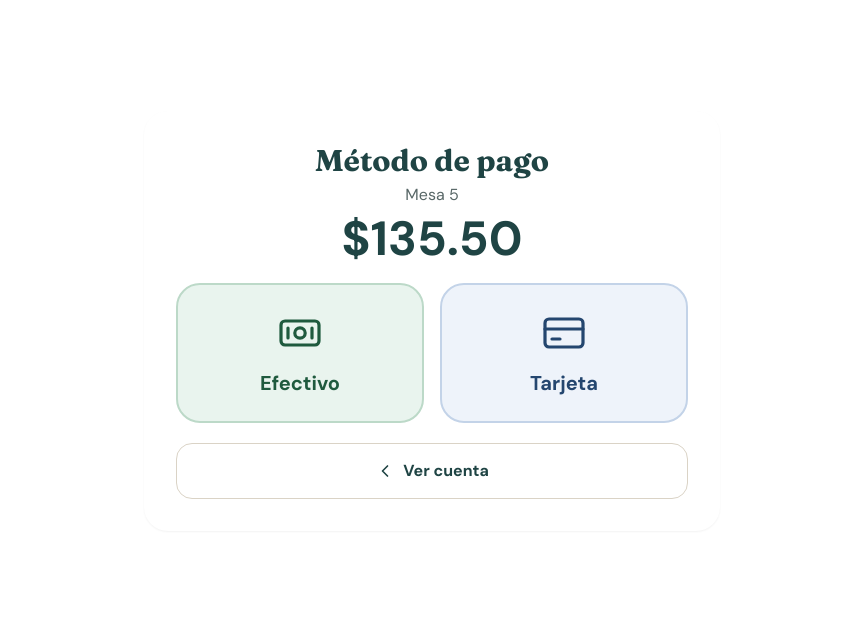
PasosPago › efectivo: atajos de billete suman
This screenshot has width=865, height=643.
What coordinates should you click on to do the following:
click the button "Efectivo"
I would click on:
 (300, 353)
Its box is [176,283,424,423].
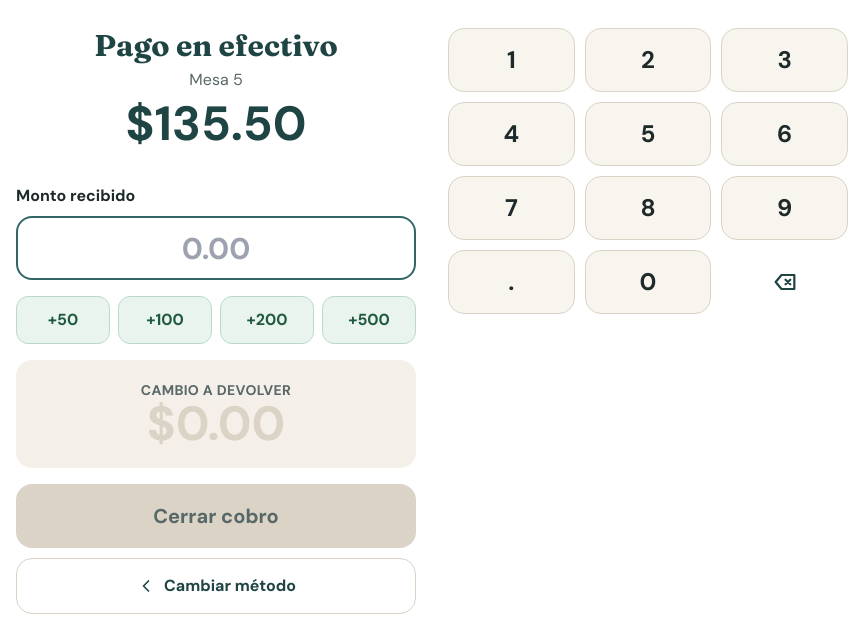
What coordinates should you click on to do the following:
click the button "+100"
I would click on:
 (165, 320)
Its box is [118,296,212,344].
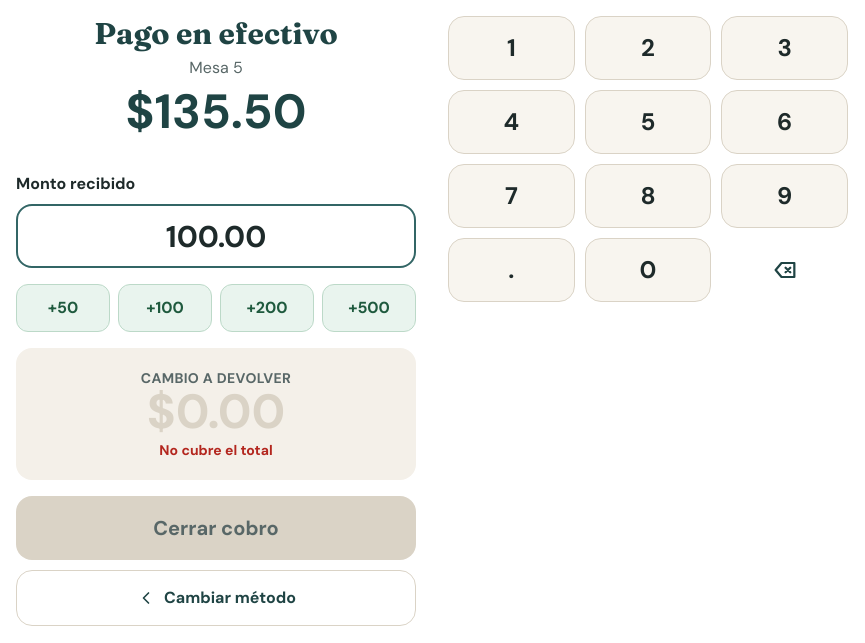
What coordinates should you click on to do the following:
click the button "+50"
I would click on:
 (63, 308)
Its box is [16,284,110,332].
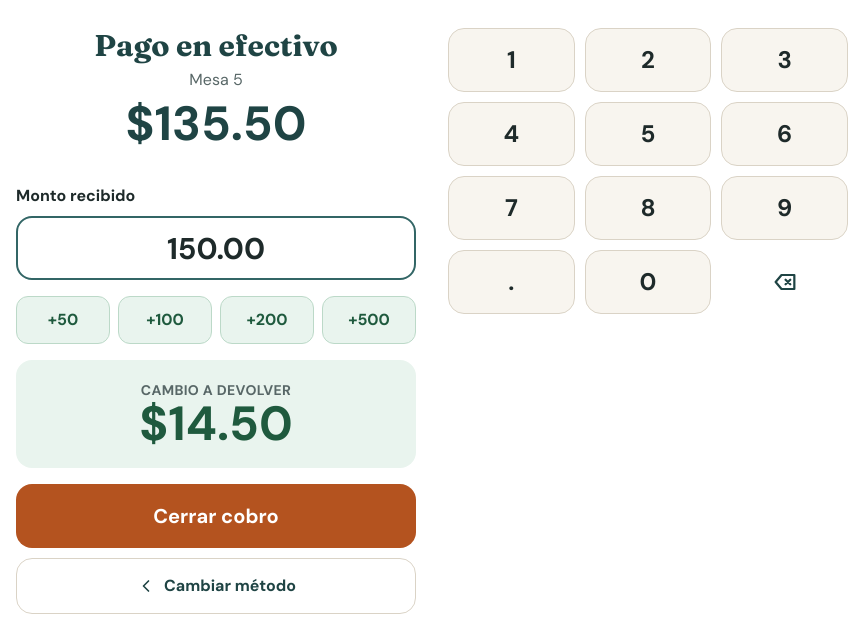
Expected: the field labelled "Monto recibido" holds "150.00", [16,216,416,280]
